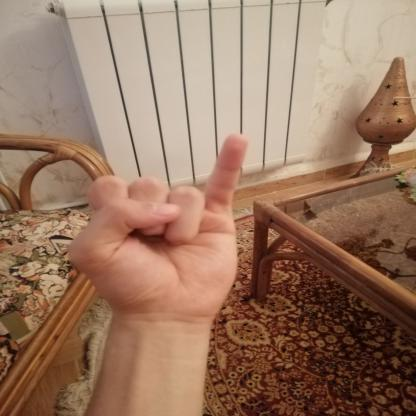MEEM: (47, 124, 274, 338)
